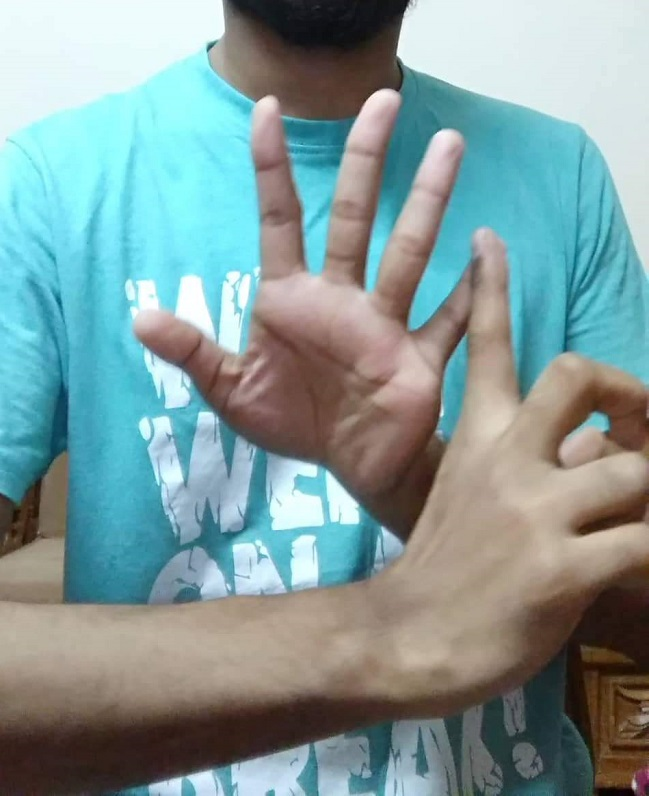i: (169, 92, 649, 571)
